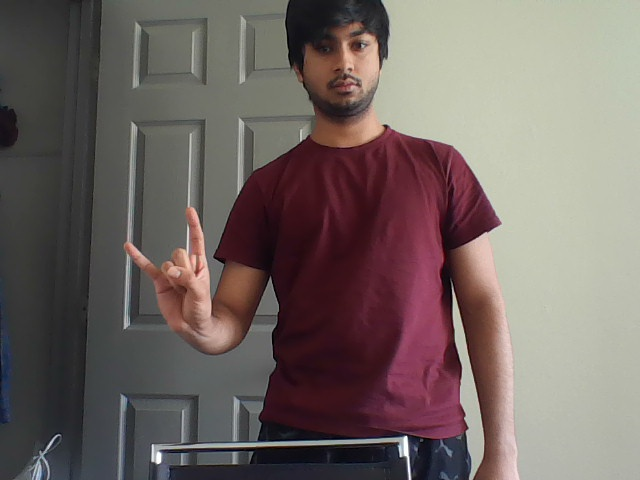help: (119, 204, 217, 285)
